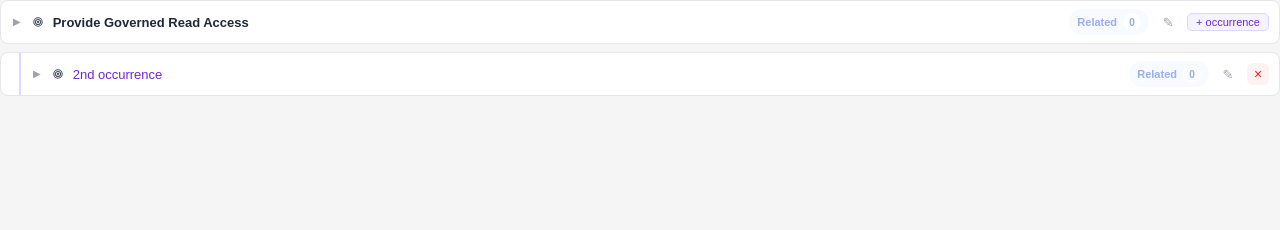
Test: changing the label › opens prefilled with what the box carries and reports the new label for that instance
This screenshot has width=1280, height=230.
Click the 2nd button with class "label-btn". click: (1228, 74)
box: [1217,63,1239,85]
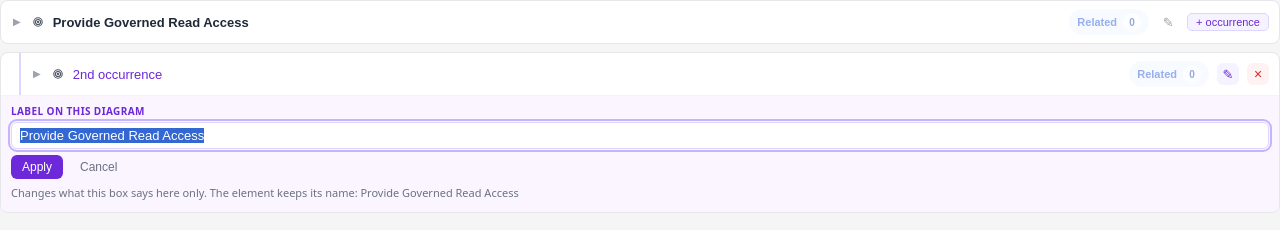
Expected: the field with class "dle__input" holds "Provide Governed Read Access"
Type "  Read Access  " into the field with class "dle__input". click: (640, 136)
box: [11,122,1269,149]
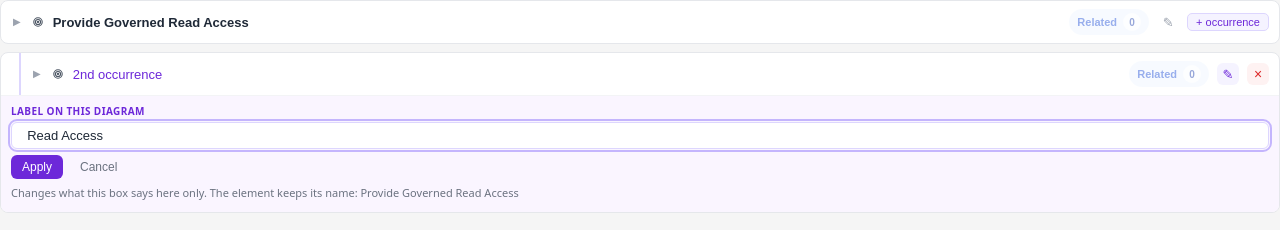
Submit the form with class "dle", box [1,95,1279,212]
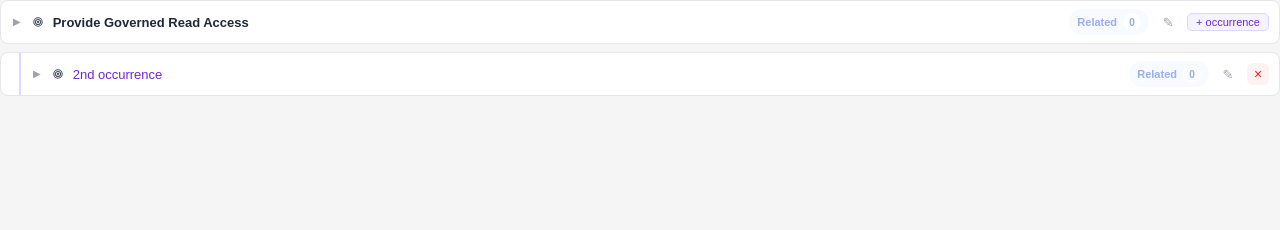
Expected: the form with class "dle" is gone
